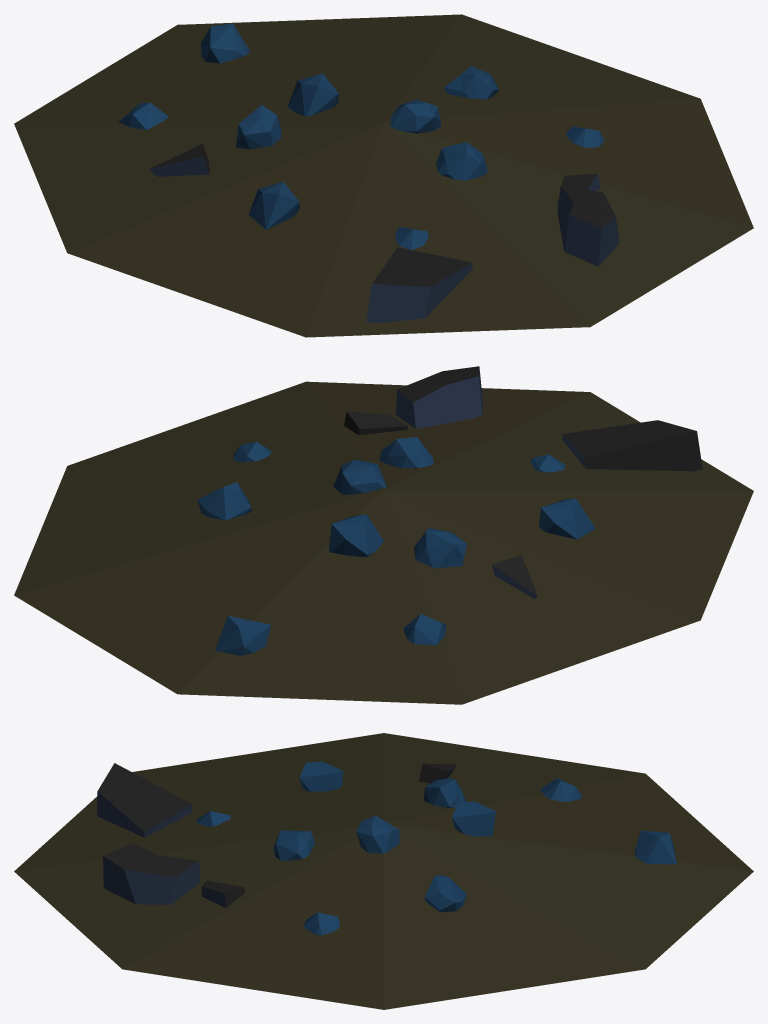
File: Grave 7.fbx
The picture shows the model from 3 angles, top to bottom: view 1: azimuth 30°, elevation 25°; view 2: azimuth 150°, elevation 25°; view 3: azimuth 270°, elevation 25°; orthographic projection. The views are drawn at different scales.
Visible parts, largest first — view 1: Plane.008; view 2: Plane.008; view 3: Plane.008.
Boxes of the visible parts, left/top/right/bottom form: Plane.008: left=14, top=14, right=753, bottom=337; Plane.008: left=14, top=366, right=753, bottom=704; Plane.008: left=14, top=733, right=753, bottom=1009.
Size of the model in its own units: 426 by 55.06 by 482.
